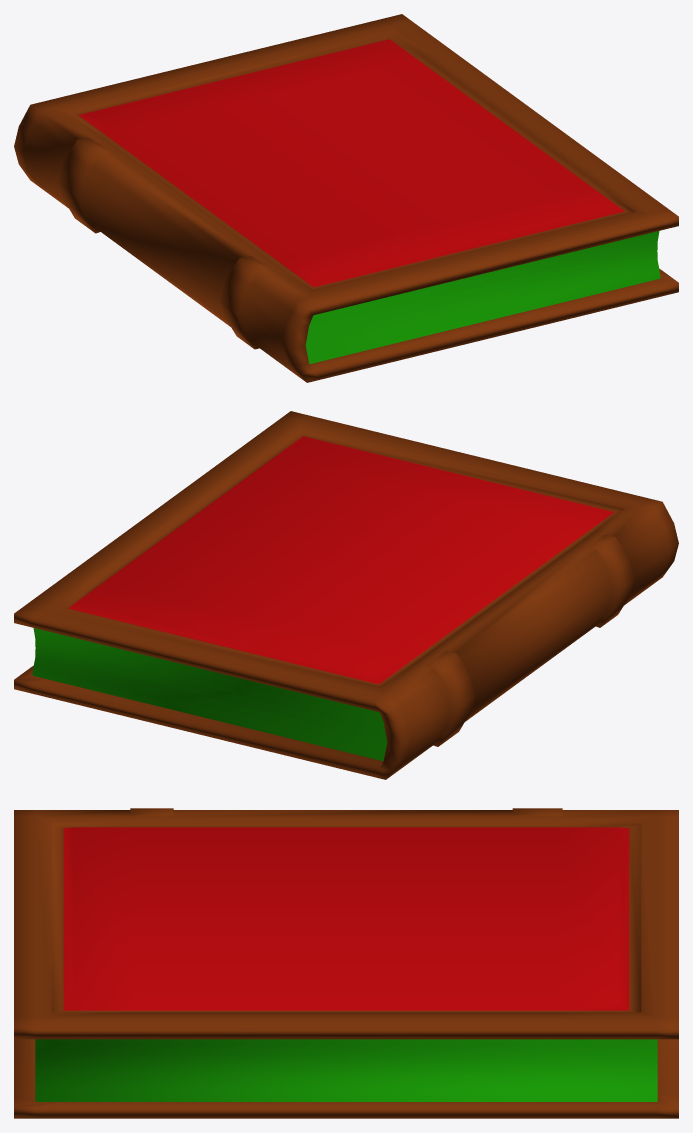
Rendered from Diary.fbx.
The picture shows the model from 3 angles, top to bottom: view 1: azimuth 30°, elevation 25°; view 2: azimuth 150°, elevation 25°; view 3: azimuth 270°, elevation 25°; orthographic projection. The views are drawn at different scales.
Parts seen in each view (by area): view 1: Diary; view 2: Diary; view 3: Diary.
Part boxes in pixels (x1,y1,x2,y2): Diary: (14,14,678,382); Diary: (14,411,678,779); Diary: (14,808,678,1118).
Bounding box in the file's own units: 327 × 62.91 × 400.
